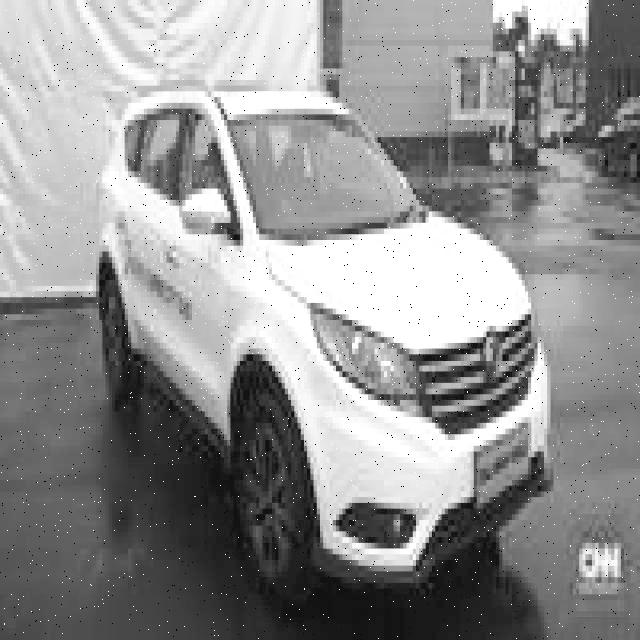Car: (95, 66, 565, 610)
